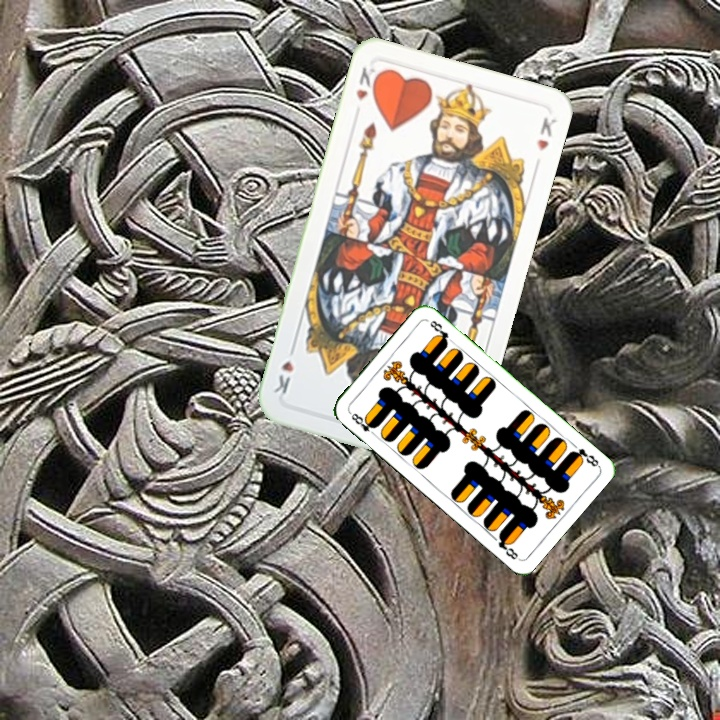E8: (345, 408, 379, 439), (566, 444, 601, 469)
HK: (352, 62, 378, 103)
